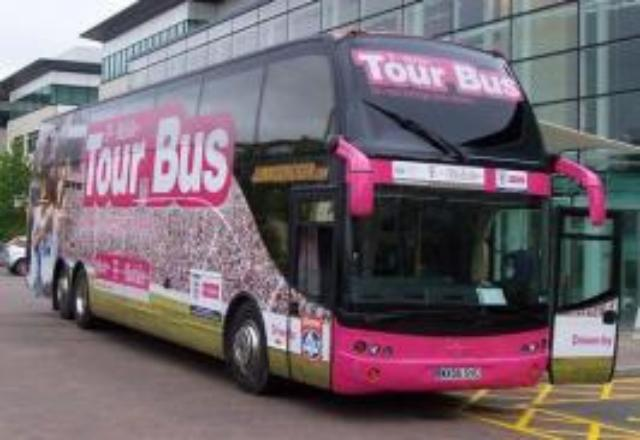bus: (26, 29, 623, 404)
